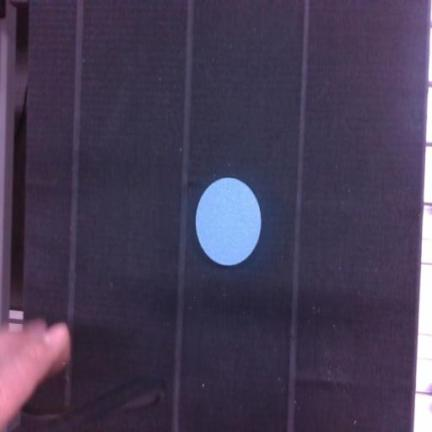cylinder: (195, 177, 261, 266)
